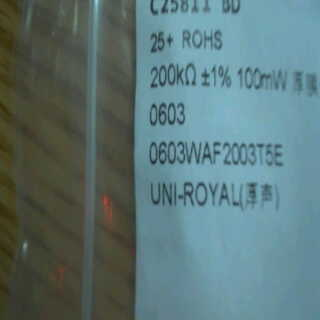200kR: (148, 58, 195, 95)
